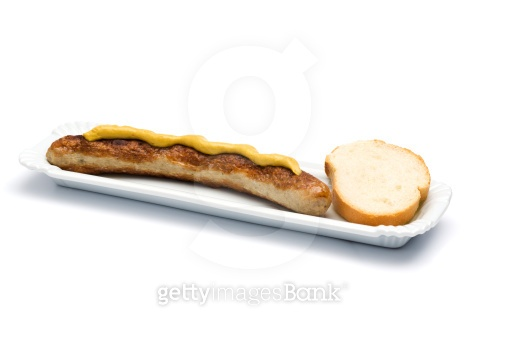slice of bread: (325, 137, 434, 229)
